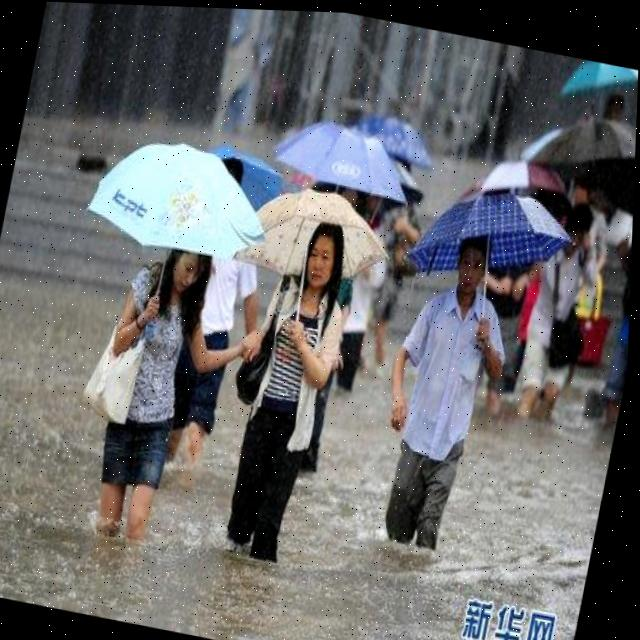civilian: (66, 225, 276, 564), (194, 200, 375, 584), (357, 218, 536, 576), (150, 149, 282, 479), (508, 202, 603, 437)
